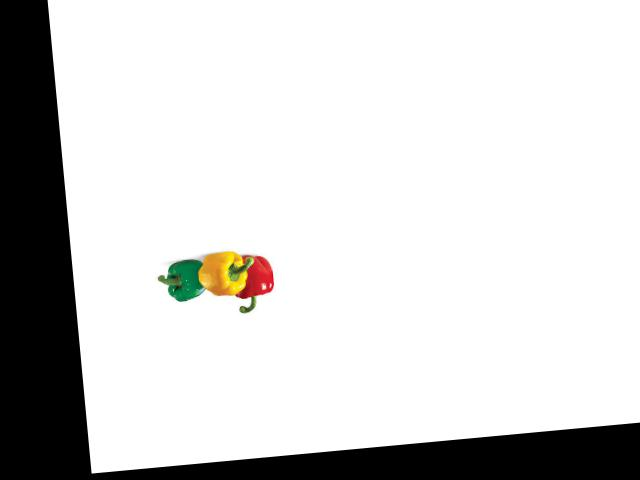bell_pepper: (157, 253, 212, 307)
